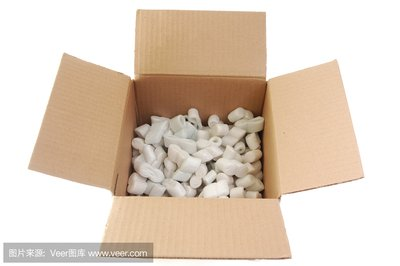5/可回收垃圾/泡沫: (27, 9, 365, 259)
